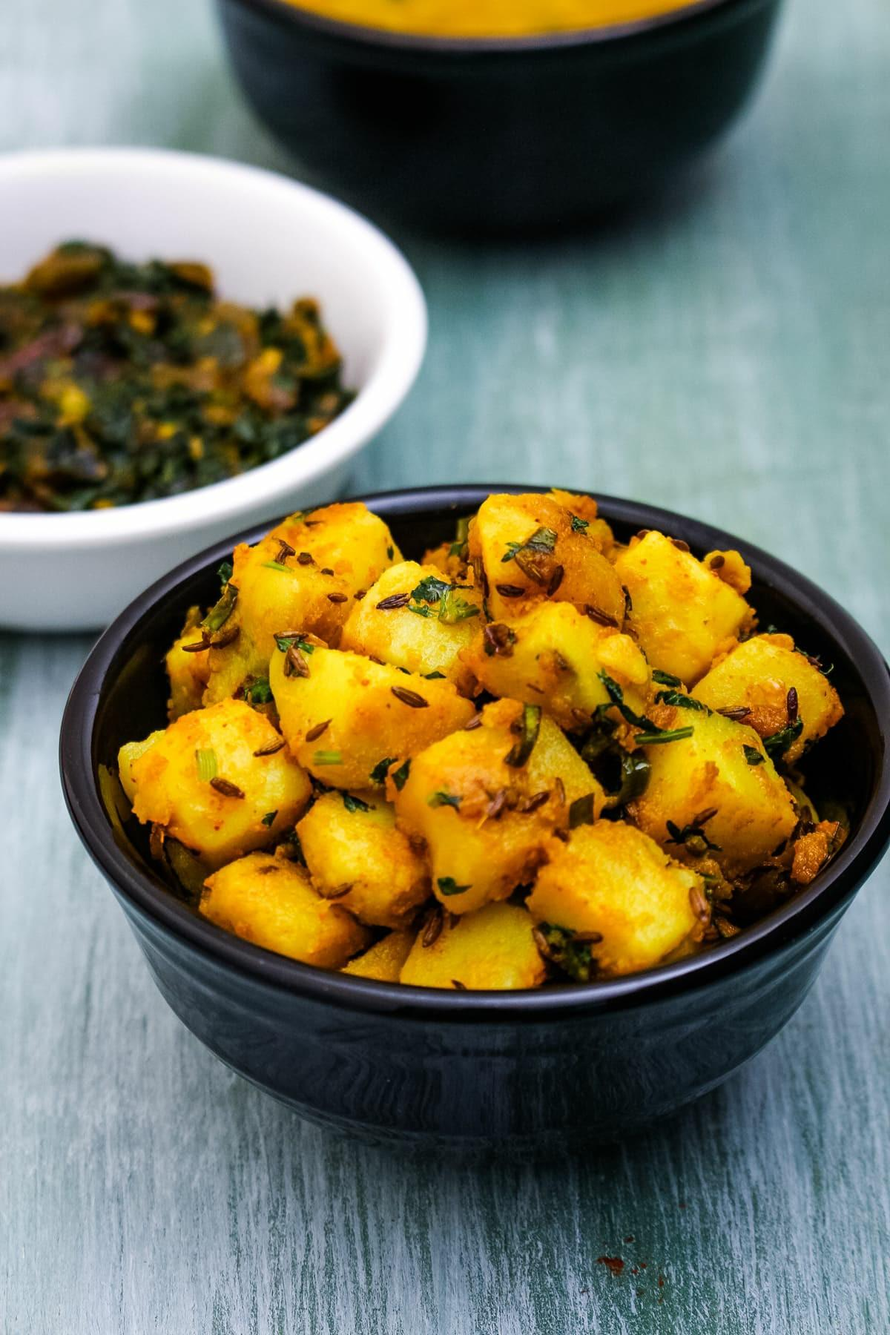AlooMasala: (114, 491, 842, 990)
BhindiMasala: (0, 239, 354, 517)
